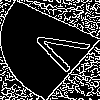V: (25, 25, 100, 78)
